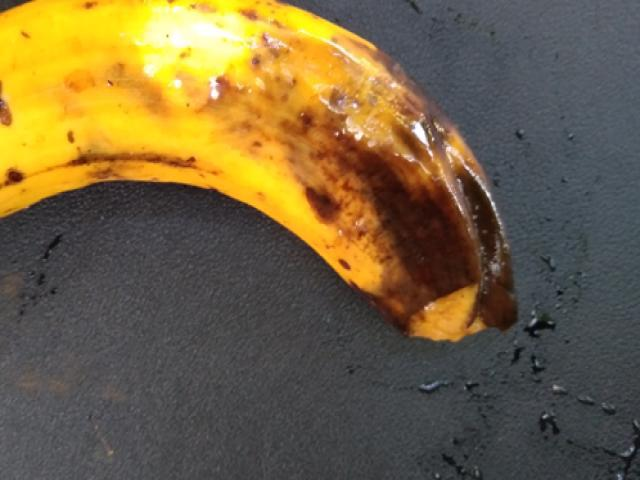rotten: (0, 0, 554, 352)
